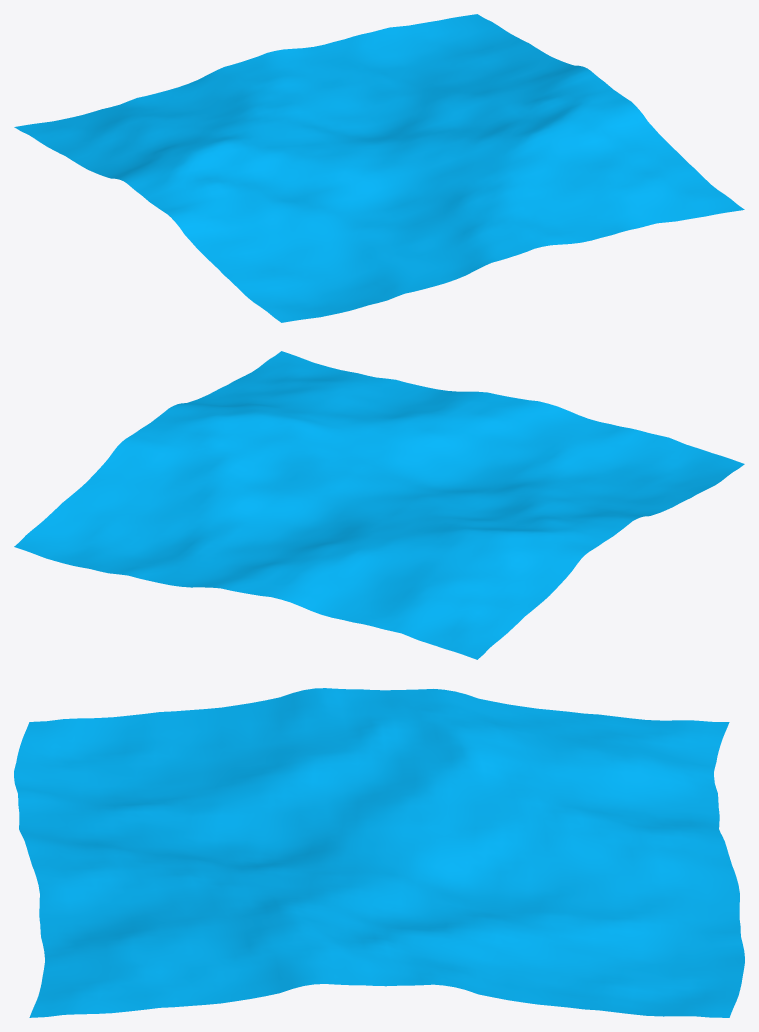
File: Lake.fbx
3 renders of one model, top to bottom at view 1: azimuth 30°, elevation 25°; view 2: azimuth 150°, elevation 25°; view 3: azimuth 270°, elevation 25°, orthographic. The views are drawn at different scales.
Parts seen in each view (by area): view 1: Plane; view 2: Plane; view 3: Plane.
Part boxes in pixels (x1,y1,x2,y2): Plane: (14, 14, 744, 322); Plane: (14, 351, 744, 659); Plane: (14, 688, 744, 1017).
Bounding box in the file's own units: 5046 × 374 × 5221.
